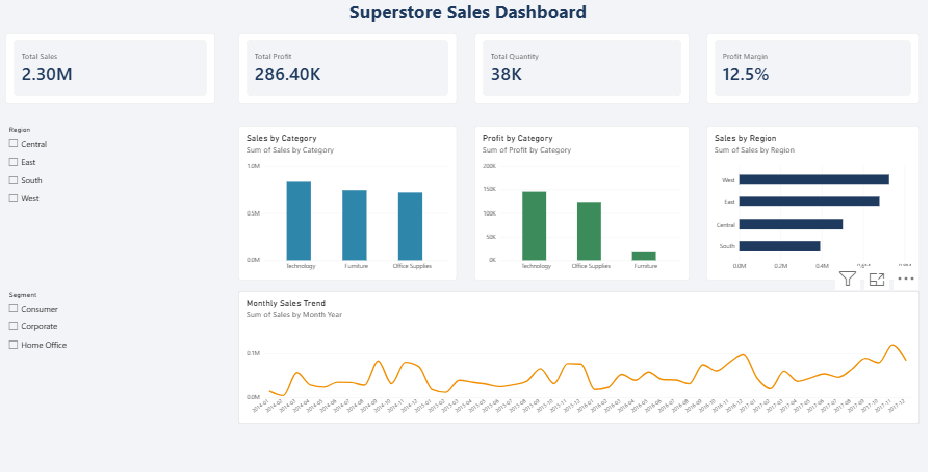

What the dashboard file says about the page in this screenshot:
{"tool":"powerbi","page":{"name":"Dashboard","canvas":[1920,1080],"ordinal":0},"visuals":[{"type":"textbox","box":[10,0,1910,90],"z":0},{"type":"cardVisual","title":"Sales by Category","fields":{"Data":["Sum(Sample - Superstore.Sales)"]},"box":[10.7,70.8,433.3,150.2],"z":1000},{"type":"cardVisual","title":"Profit by Category","fields":{"Data":["Sum(Sample - Superstore.Profit)"]},"box":[491.3,70.8,450.5,150.2],"z":2000},{"type":"cardVisual","title":"Sales by Region","fields":{"Data":["Sum(Sample - Superstore.Quantity)"]},"box":[978.2,70.8,444.1,150.2],"z":3000},{"type":"cardVisual","title":"Monthly Sales Trend","fields":{"Data":["Sample - Superstore.Profit Margin"]},"box":[1456.6,70.8,439.8,150.2],"z":4000},{"type":"clusteredColumnChart","title":"Sales by Category","fields":{"Category":["Sample - Superstore.Category"],"Y":["Sum(Sample - Superstore.Sales)"]},"box":[491.3,268.2,450.5,326.1],"z":5000},{"type":"clusteredColumnChart","title":"Profit by Category","fields":{"Category":["Sample - Superstore.Category"],"Y":["Sum(Sample - Superstore.Profit)"]},"box":[978.2,268.2,444.1,326.1],"z":6000},{"type":"clusteredBarChart","title":"Sales by Region","fields":{"Category":["Sample - Superstore.Region"],"Y":["Sum(Sample - Superstore.Sales)"]},"box":[1456.6,268.2,439.8,326.1],"z":7000},{"type":"slicer","fields":{"Values":["Sample - Superstore.Region"]},"box":[10.7,268.2,433.3,326.1],"z":8000},{"type":"slicer","fields":{"Values":["Sample - Superstore.Segment"]},"box":[10.7,615.7,433.3,298.2],"z":9000},{"type":"lineChart","title":"Monthly Sales Trend","fields":{"Category":["Sample - Superstore.Month Year"],"Y":["Sum(Sample - Superstore.Sales)"]},"box":[491.3,615.7,1405.1,281],"z":12000}]}

Visuals, with their boxes on the page's 1920x1080 design canvas (x1, y1, x2, y2). These are canvas units, not pixel positions in the 928x472 screenshot, which may show the page scaled, cropped or inside an application window:
textbox: bbox=[10, 0, 1920, 90]
"Sales by Category" cardVisual: bbox=[11, 71, 444, 221]
"Profit by Category" cardVisual: bbox=[491, 71, 942, 221]
"Sales by Region" cardVisual: bbox=[978, 71, 1422, 221]
"Monthly Sales Trend" cardVisual: bbox=[1457, 71, 1896, 221]
"Sales by Category" clusteredColumnChart: bbox=[491, 268, 942, 594]
"Profit by Category" clusteredColumnChart: bbox=[978, 268, 1422, 594]
"Sales by Region" clusteredBarChart: bbox=[1457, 268, 1896, 594]
slicer - Sample - Superstore.Region: bbox=[11, 268, 444, 594]
slicer - Sample - Superstore.Segment: bbox=[11, 616, 444, 914]
"Monthly Sales Trend" lineChart: bbox=[491, 616, 1896, 897]
